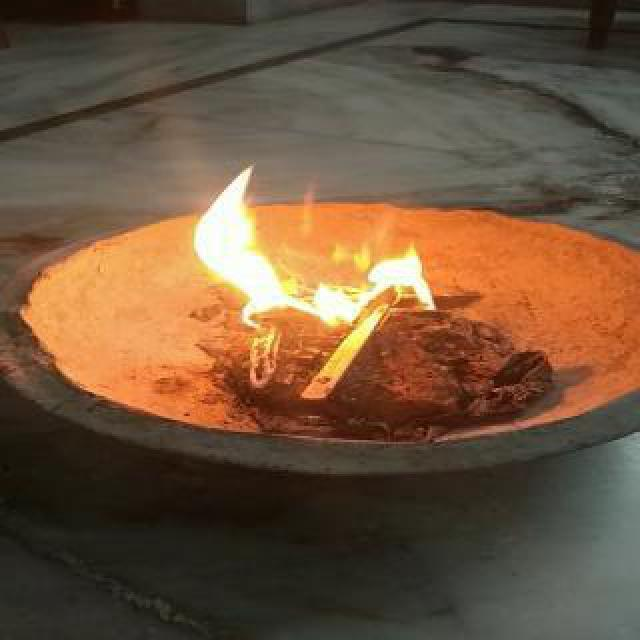zfire: (178, 158, 458, 342)
